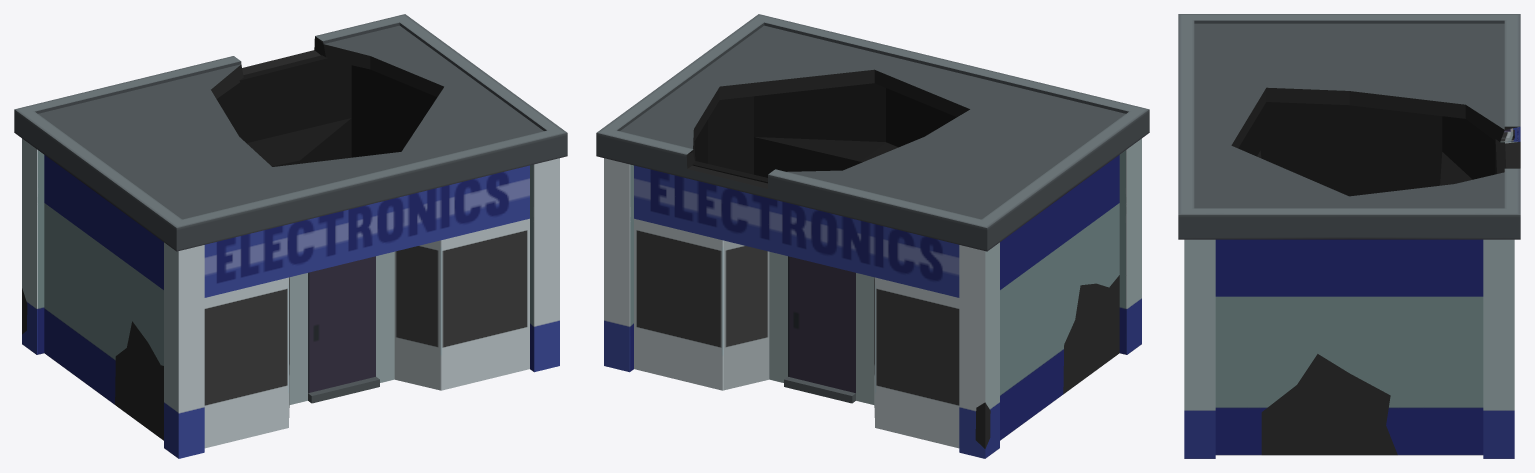
File: SM_Bld_Store_Damaged_01.gltf
3 renders of one model, left to right at view 1: azimuth 30°, elevation 25°; view 2: azimuth 150°, elevation 25°; view 3: azimuth 270°, elevation 25°, orthographic. The views are drawn at different scales.
Visible parts, largest first — view 1: SM_Bld_Store_Damaged_01; view 2: SM_Bld_Store_Damaged_01; view 3: SM_Bld_Store_Damaged_01.
Boxes of the visible parts, box(x1,y1,x2,y2) form: SM_Bld_Store_Damaged_01: box(14, 14, 567, 458); SM_Bld_Store_Damaged_01: box(596, 14, 1149, 458); SM_Bld_Store_Damaged_01: box(1178, 14, 1520, 458).
Bounding box in the file's own units: 11.63 × 6.66 × 8.37.
Materials: 1 (1 with a texture image).
